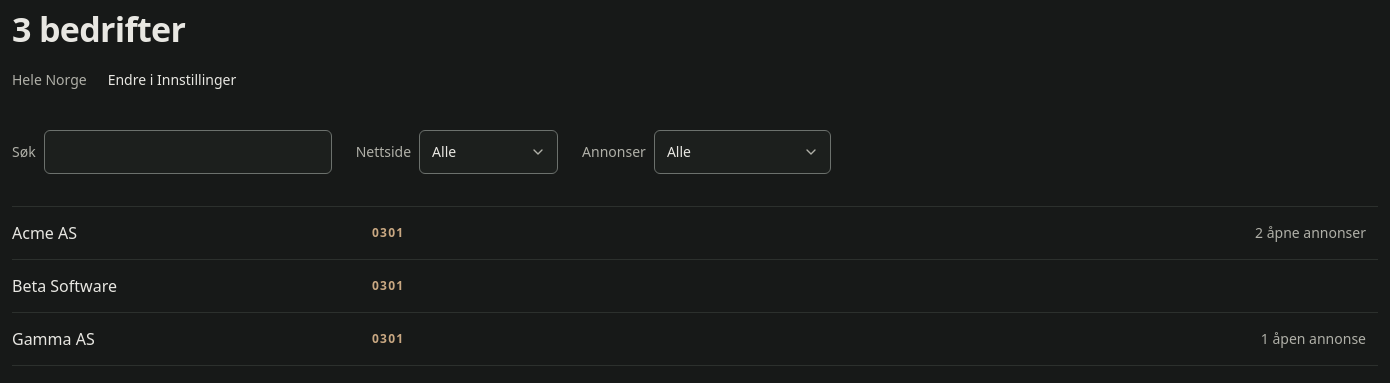
Scenario: CompaniesView › shows the group total of open ads on the row, and «Med åpen annonse» keeps only groups that have one
The image size is (1390, 383).
Expected: the text "Acme AS" is shown, [12,222,77,244]
Expected: the text "1 åpen annonse" is shown, [1261,329,1378,349]
Select "Med åpen annonse" in the dropdown labelled "Annonser". click: (742, 152)
box: [654,130,831,174]
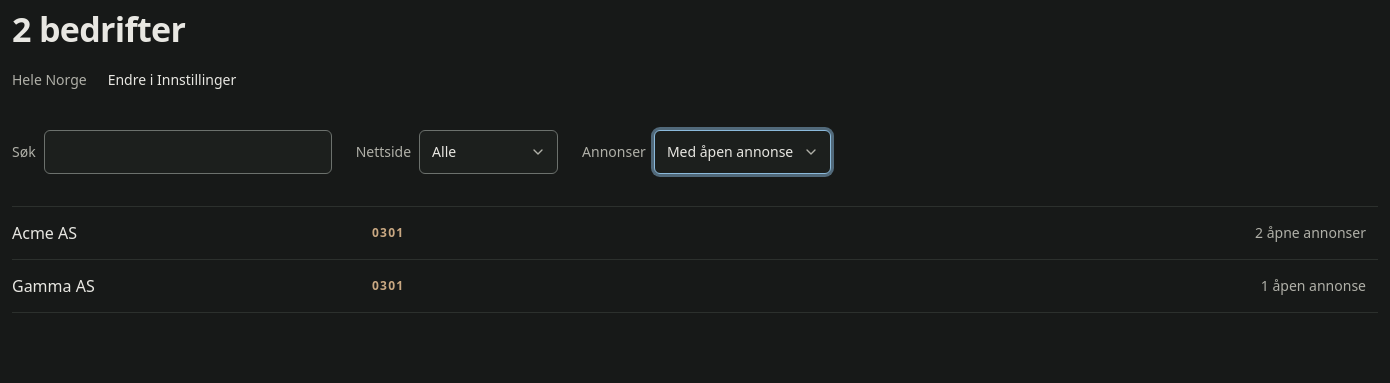
Expected: the text "Acme AS" is shown, [12,222,77,244]
Expected: the button "Beta Software" is gone
Select "Alle" in the dropdown labelled "Annonser". click: (742, 152)
box: [654,130,831,174]
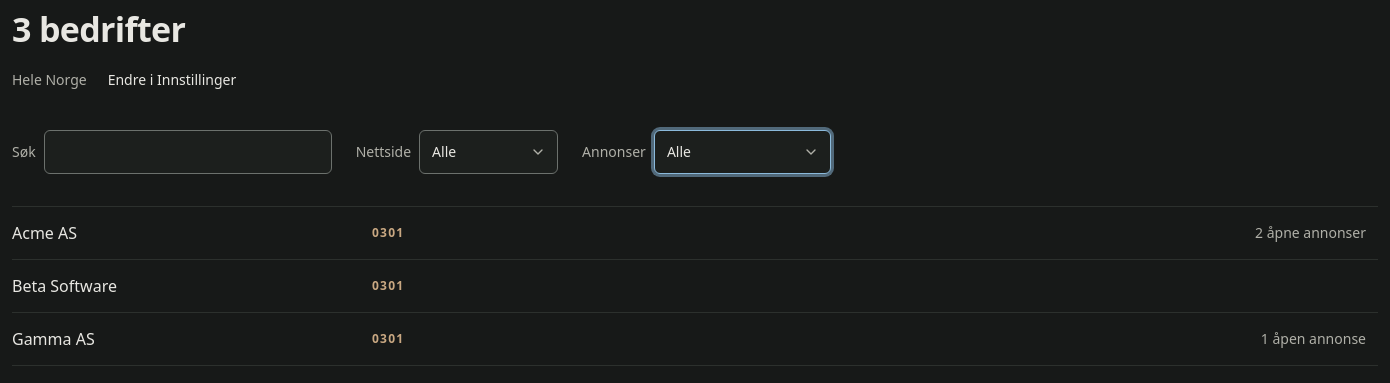
Expected: the text "Beta Software" is shown, [12,275,117,297]
